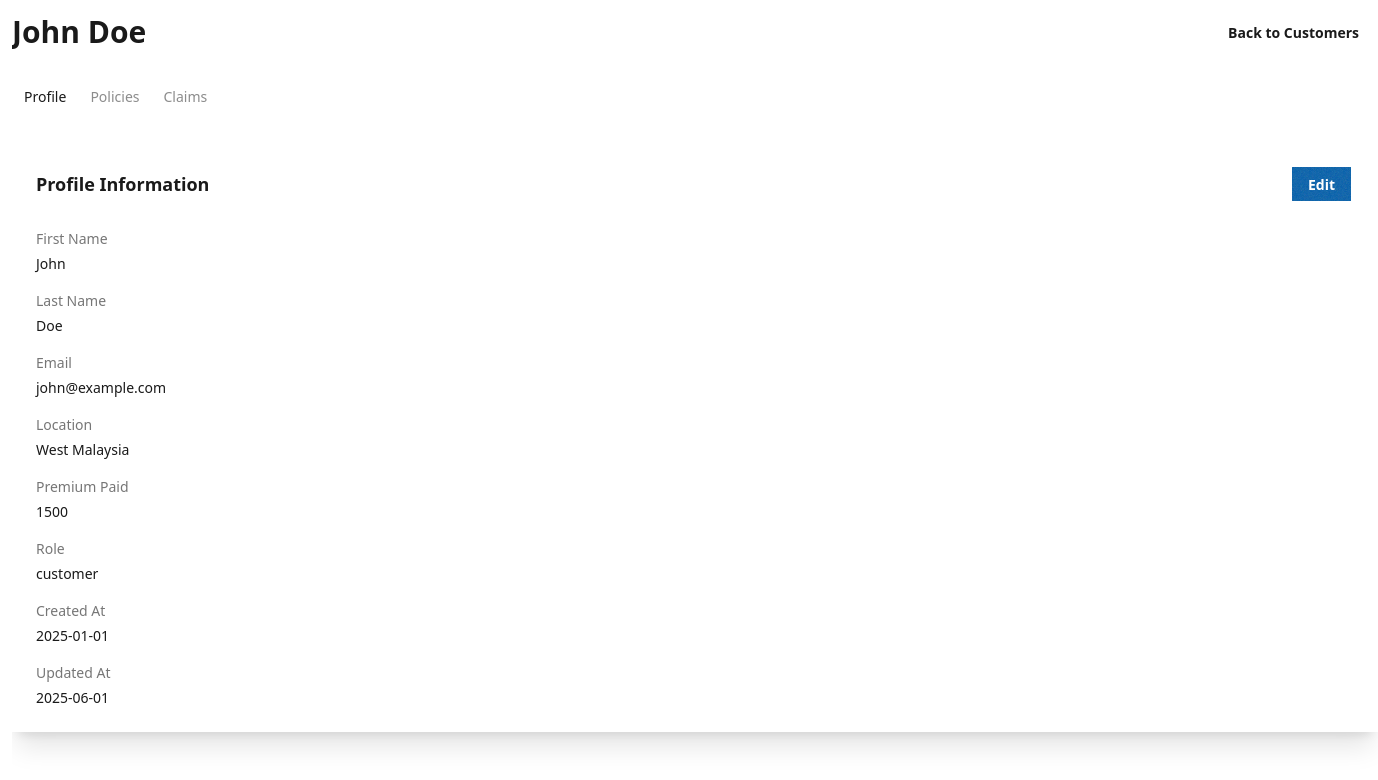
Scenario: Admin Customer Detail/Edit Page › renders Policies tab with policy data in table
Click the tab "Policies" at [115, 96], box [78,76,152,116]
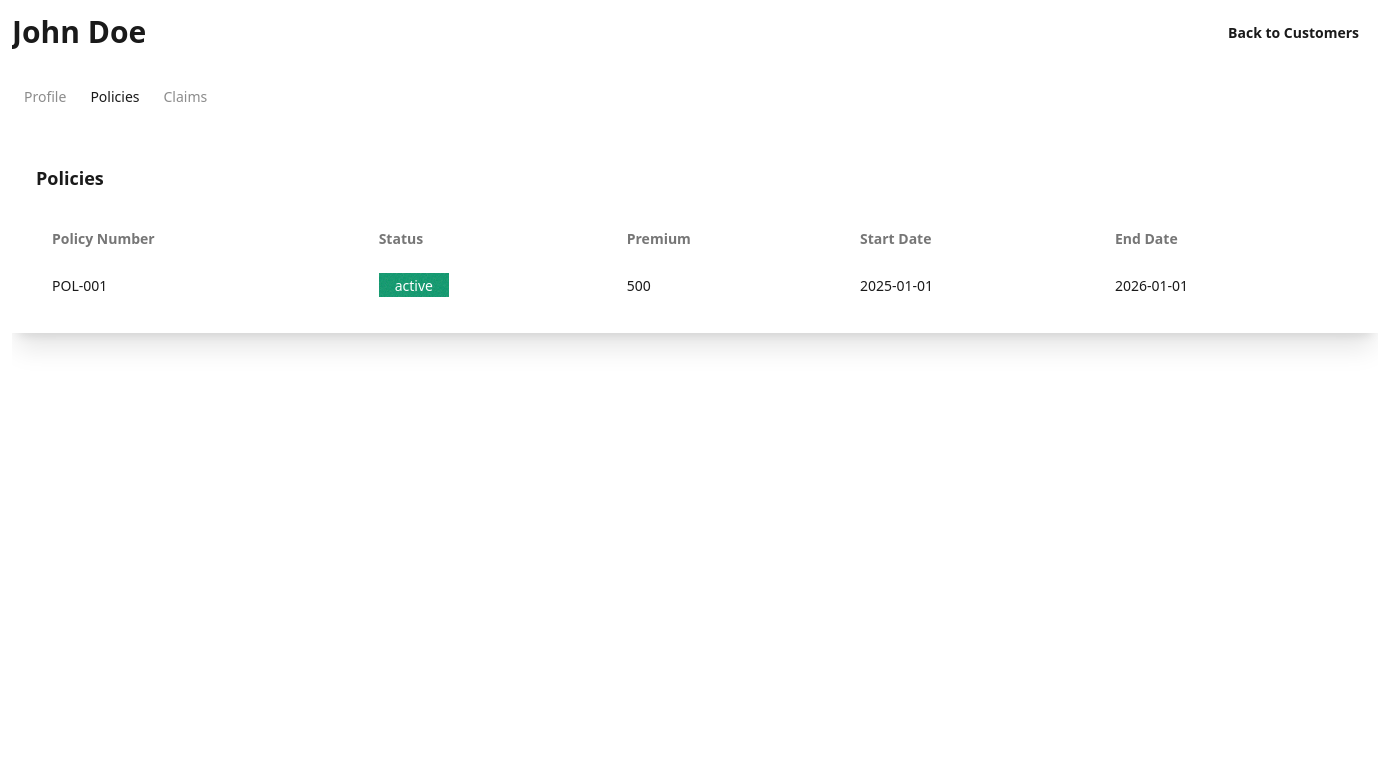
Expected: the text "500" is shown, [611,261,844,309]
Now the text "POL-001" is shown, box [36,261,363,309]
Now the text "active" is shown, box [379,273,449,297]
